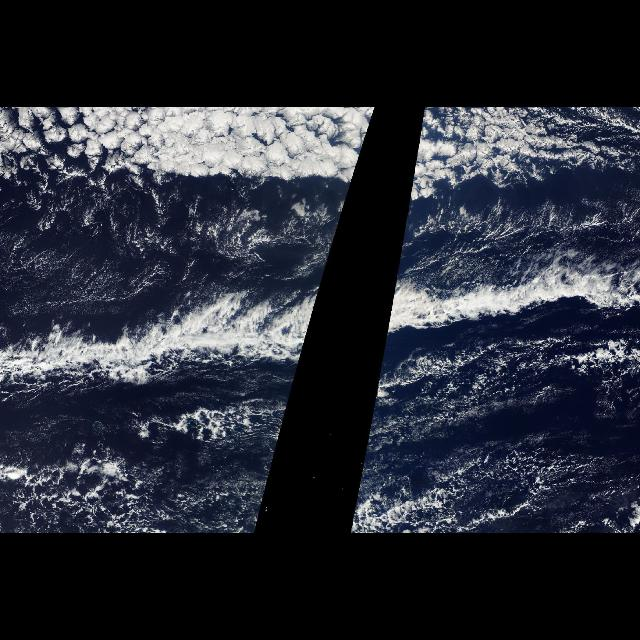Fish: (1, 262, 330, 392), (376, 262, 640, 392)
Flower: (0, 108, 376, 204), (409, 108, 605, 204)
Sugar: (378, 462, 590, 532)
